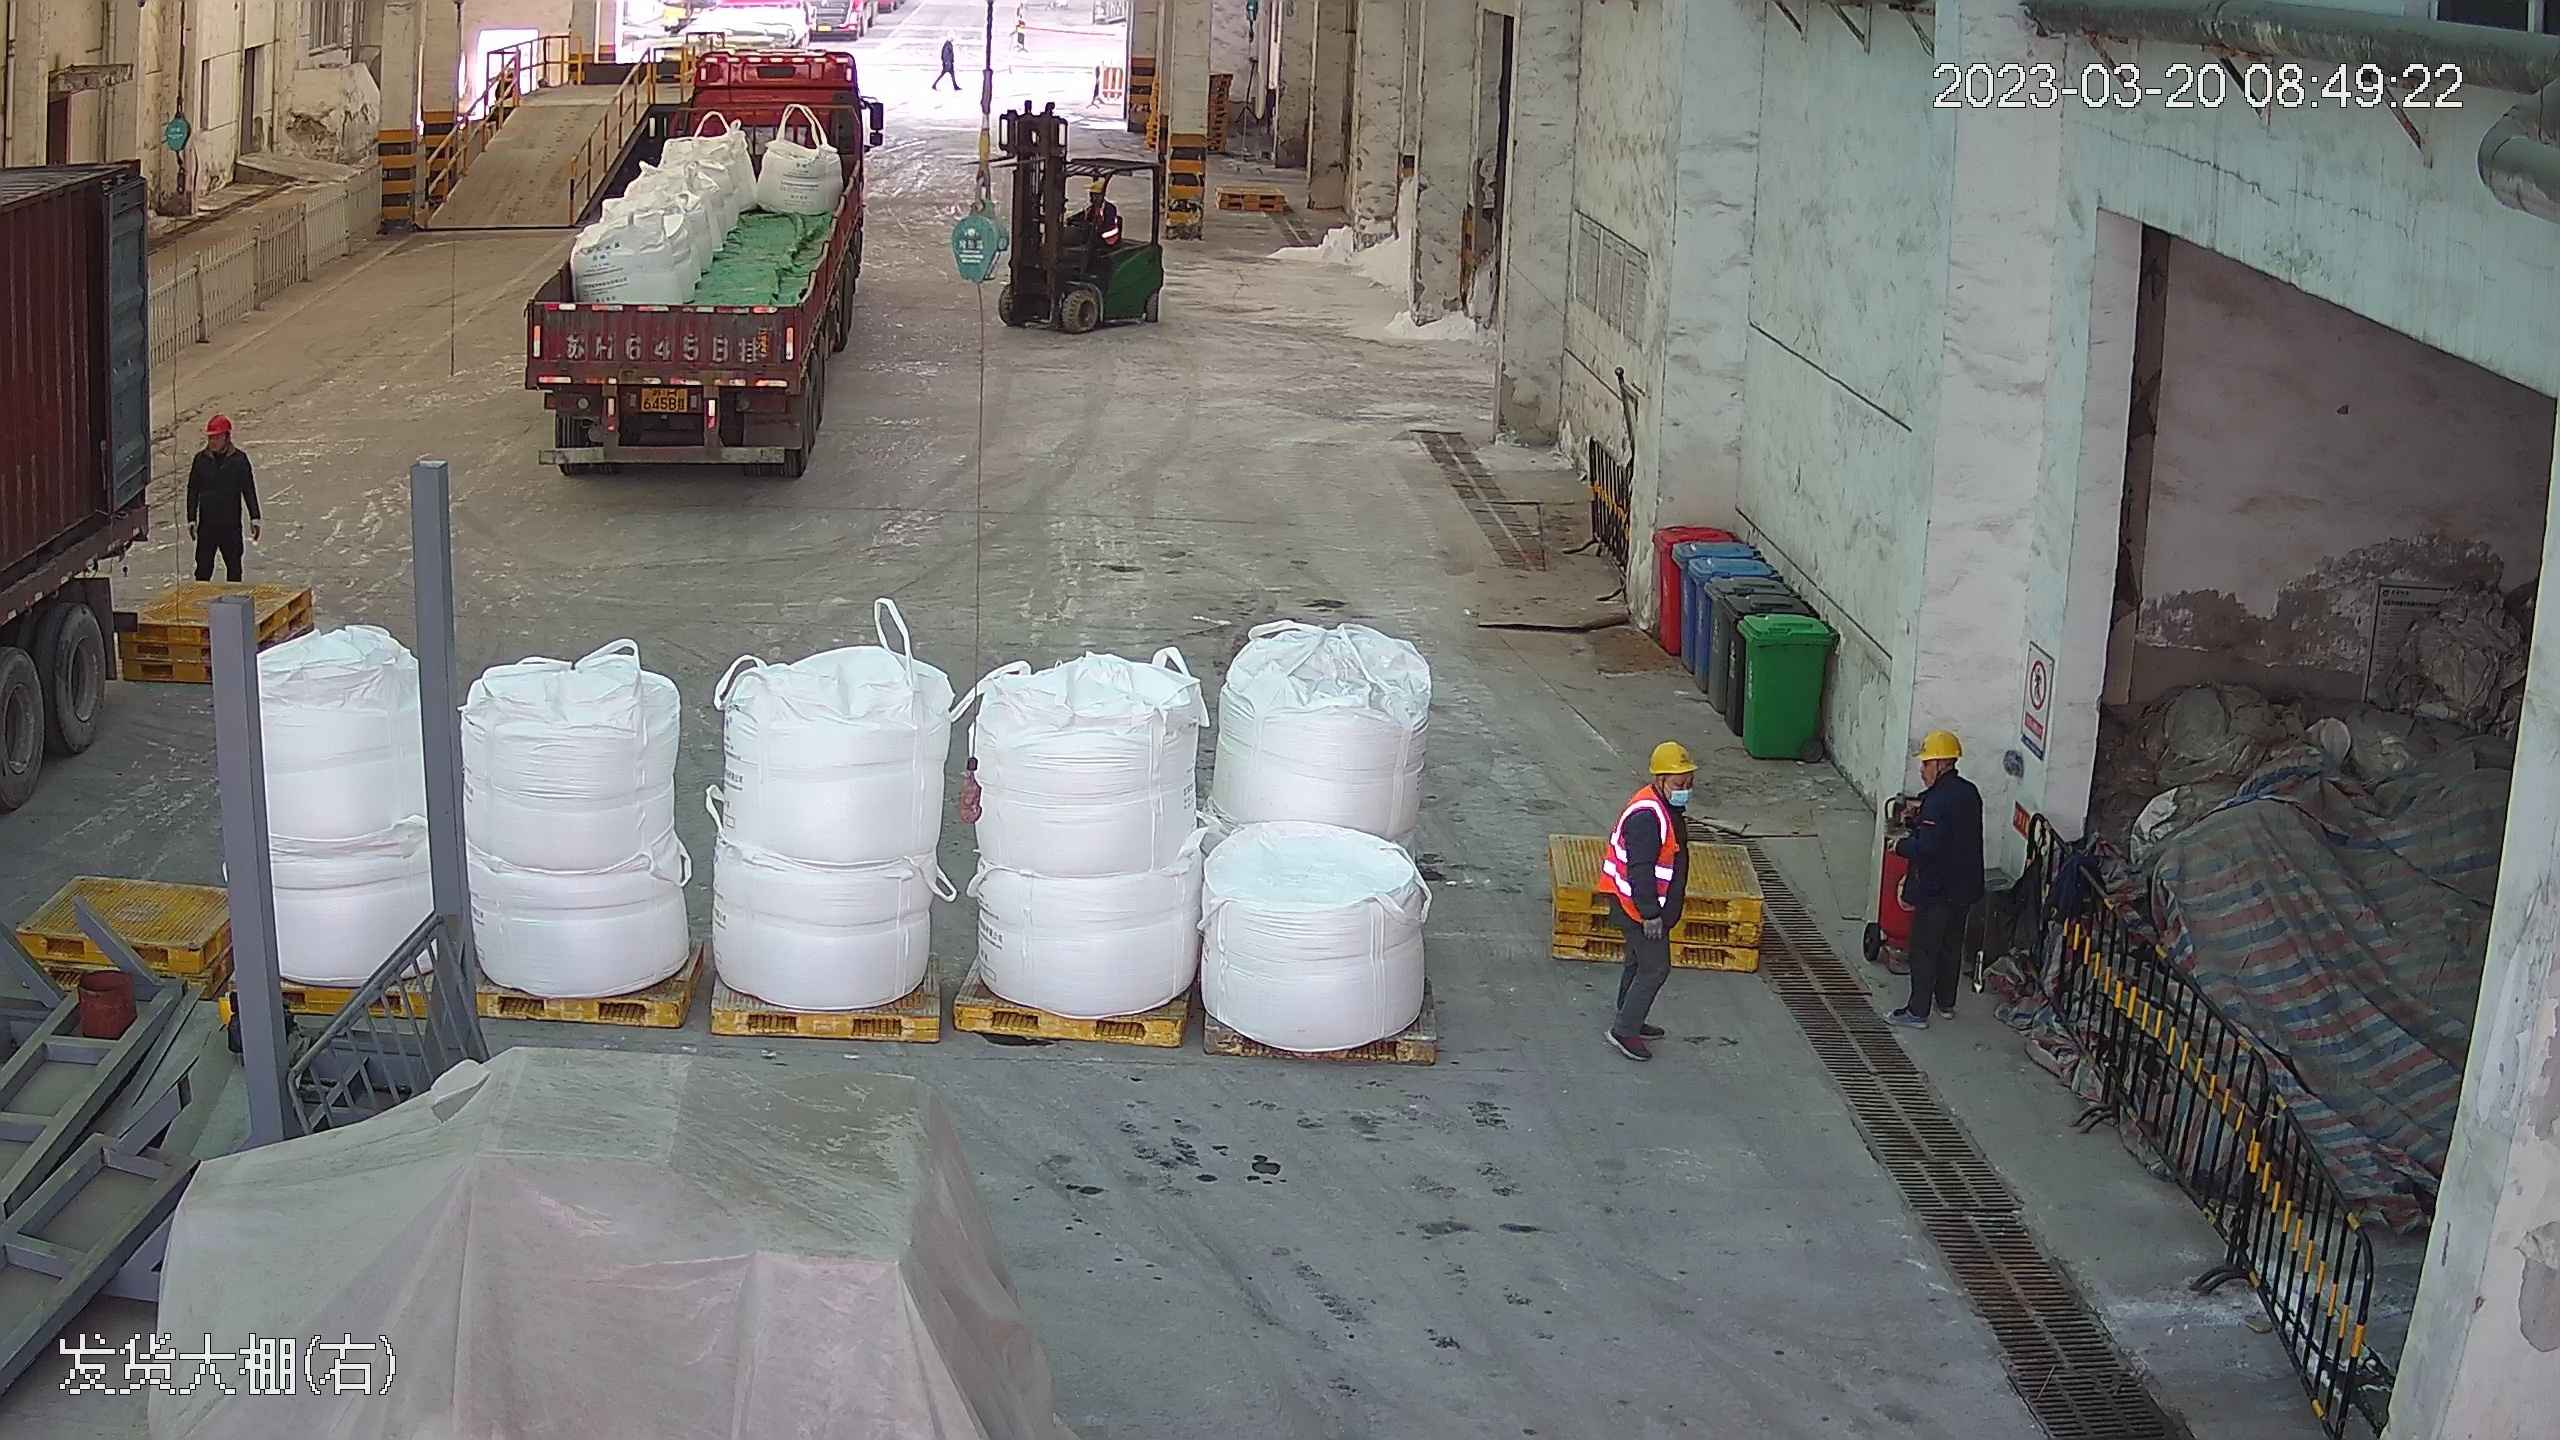head: (1617, 738, 1701, 844), (1897, 726, 1982, 822), (189, 413, 251, 473), (1079, 175, 1121, 226)
helmet: (1898, 726, 1981, 819), (1917, 725, 1967, 763), (1646, 739, 1698, 775), (207, 413, 237, 437), (1085, 174, 1110, 194)
people: (1598, 733, 1699, 1069), (1878, 723, 1987, 1020), (183, 410, 264, 588), (930, 26, 960, 99)
truck: (510, 26, 874, 484), (0, 22, 161, 930)
